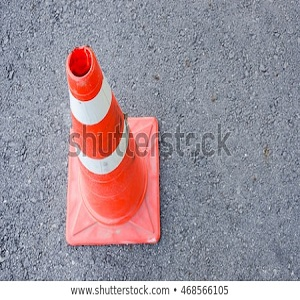traffic cone: (65, 45, 160, 243)
